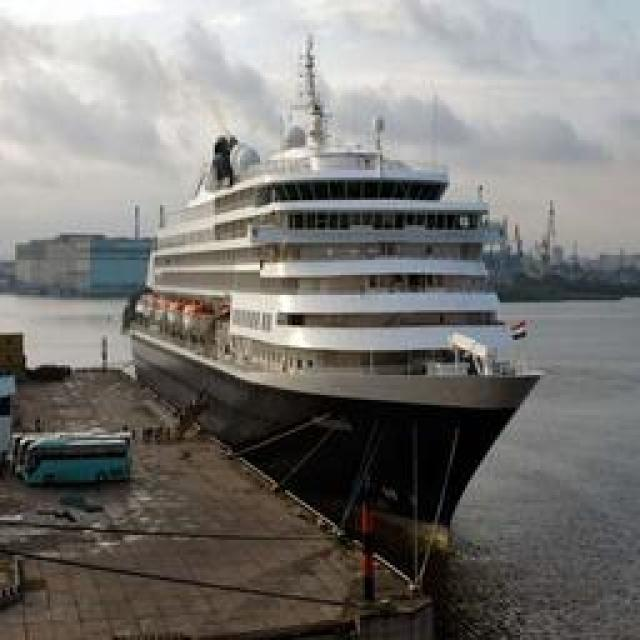CIV_Ship: (128, 45, 540, 563)
